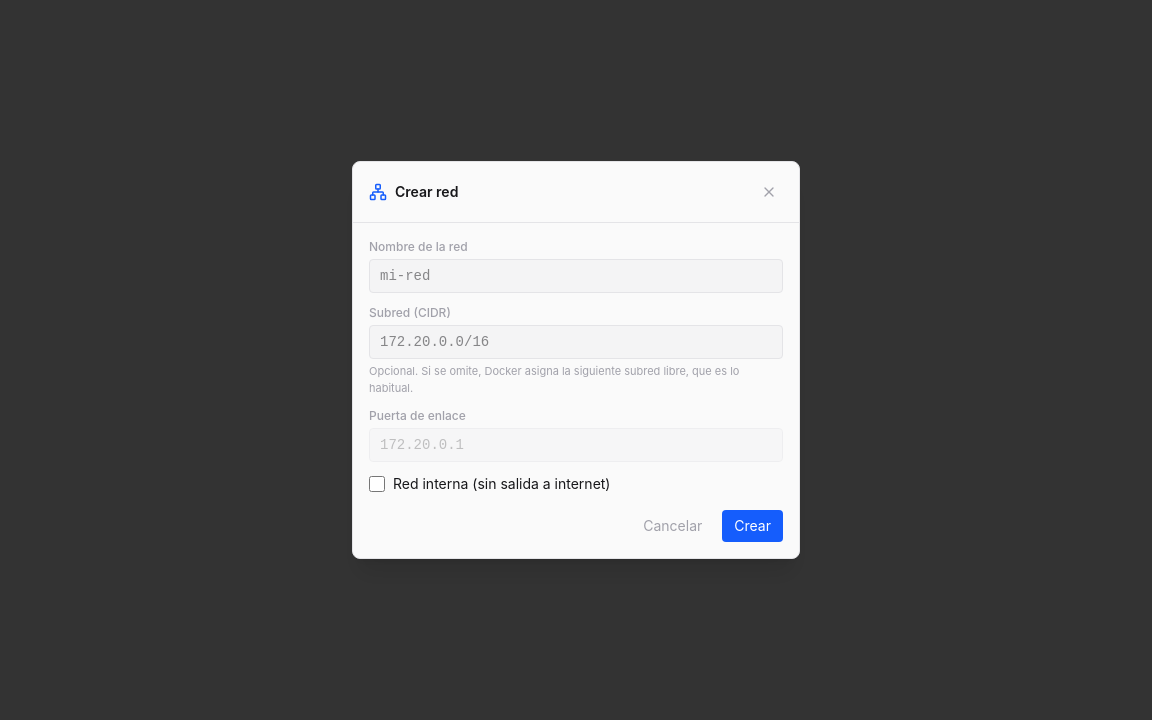
CreateNetworkModal › exige un nombre
Click the button "Crear".
click(753, 526)  # box x1=722 y1=510 x2=783 y2=542
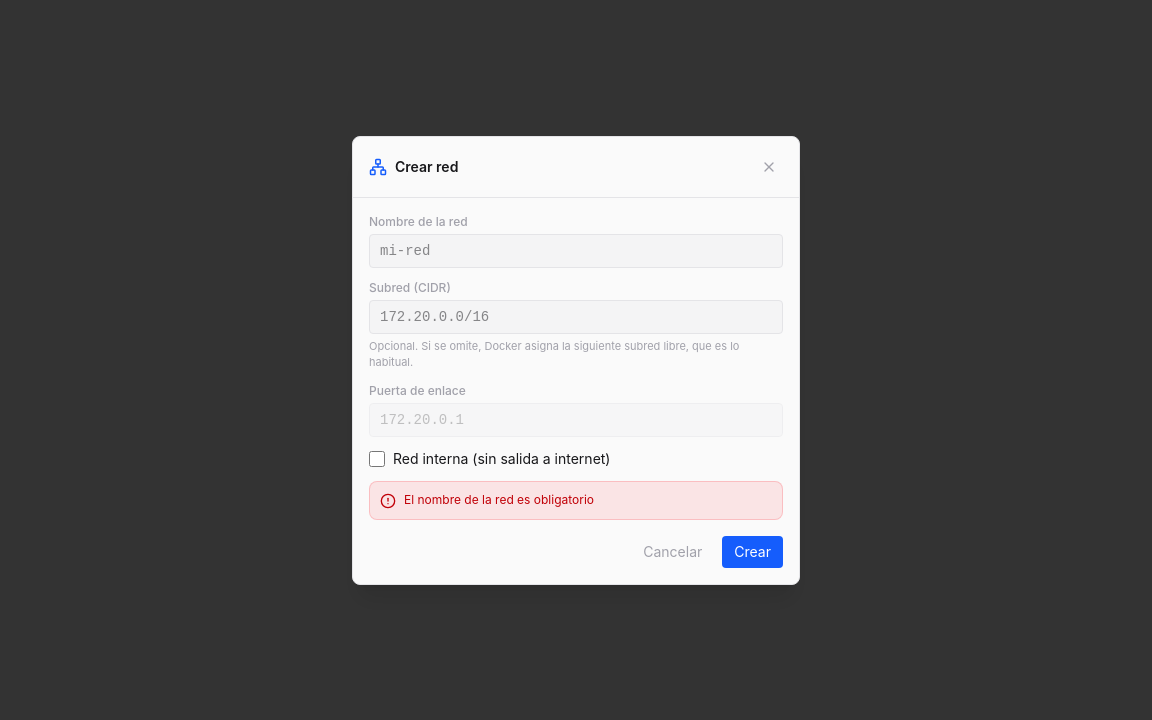
Now the message shows "nombre", box x1=404 y1=492 x2=594 y2=506
